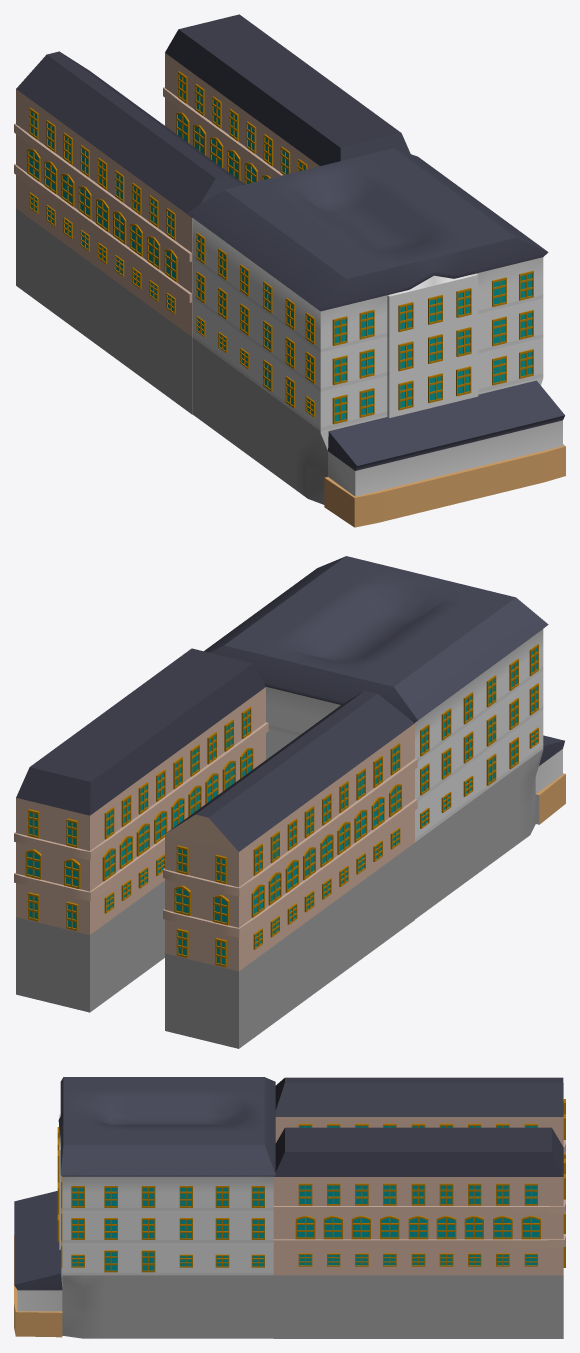
The model's file is Birger Jarls torg04.fbx.
3 renders of one model, top to bottom at view 1: azimuth 30°, elevation 25°; view 2: azimuth 150°, elevation 25°; view 3: azimuth 270°, elevation 25°, orthographic. The views are drawn at different scales.
Parts seen in each view (by area): view 1: group2_pCube10; view 2: group2_pCube10; view 3: group2_pCube10.
Boxes of the visible parts, x1,y1,x2,y2 form: group2_pCube10: [14, 14, 565, 527]; group2_pCube10: [14, 556, 565, 1048]; group2_pCube10: [14, 1077, 565, 1338].
Bounding box in the file's own units: 1111 × 1027 × 2789.
